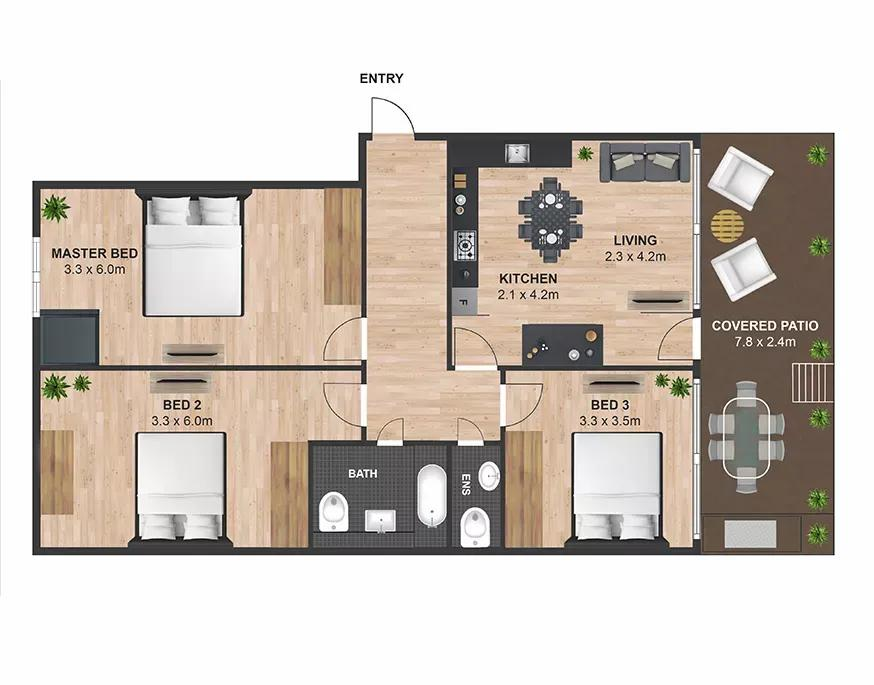room: (37, 184, 366, 366), (450, 136, 698, 367), (37, 369, 310, 550), (504, 368, 696, 551), (310, 443, 450, 550), (450, 443, 503, 549)
